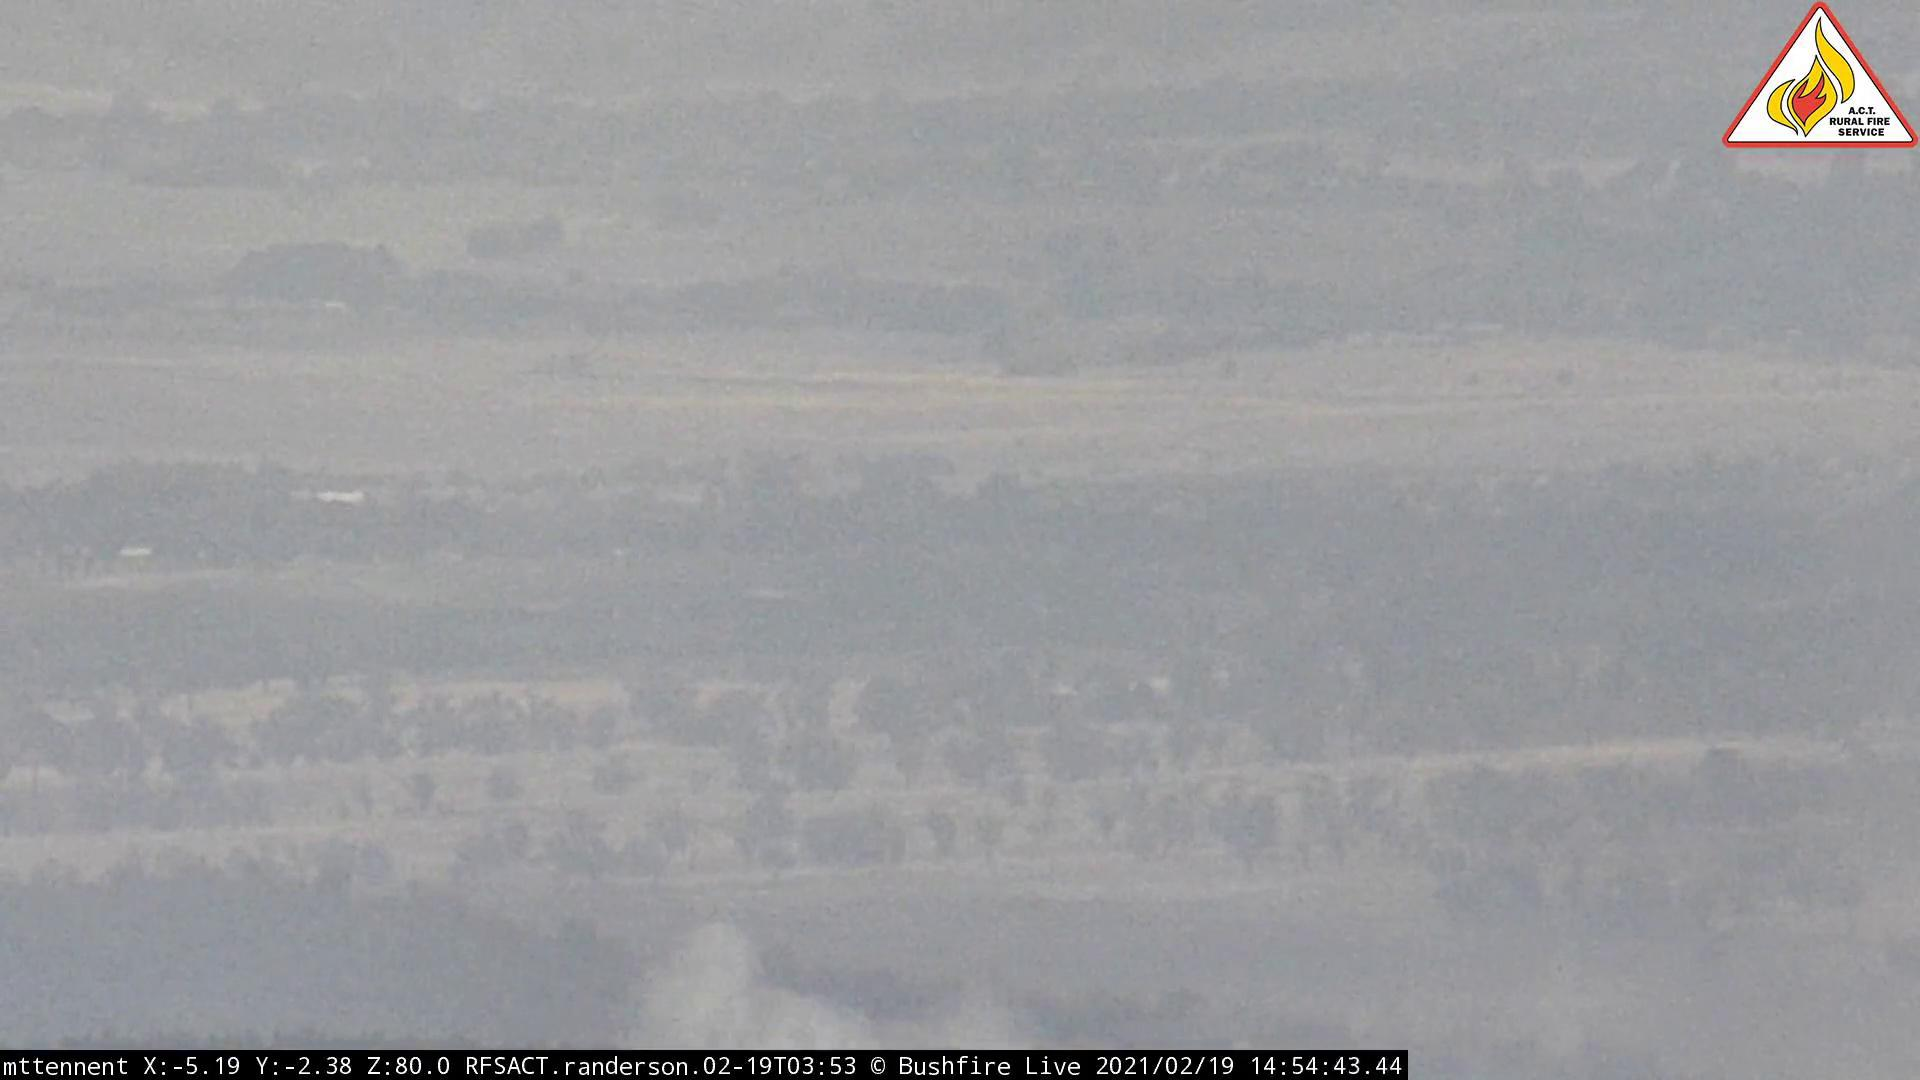Smoke: (603, 918, 1033, 1048)
